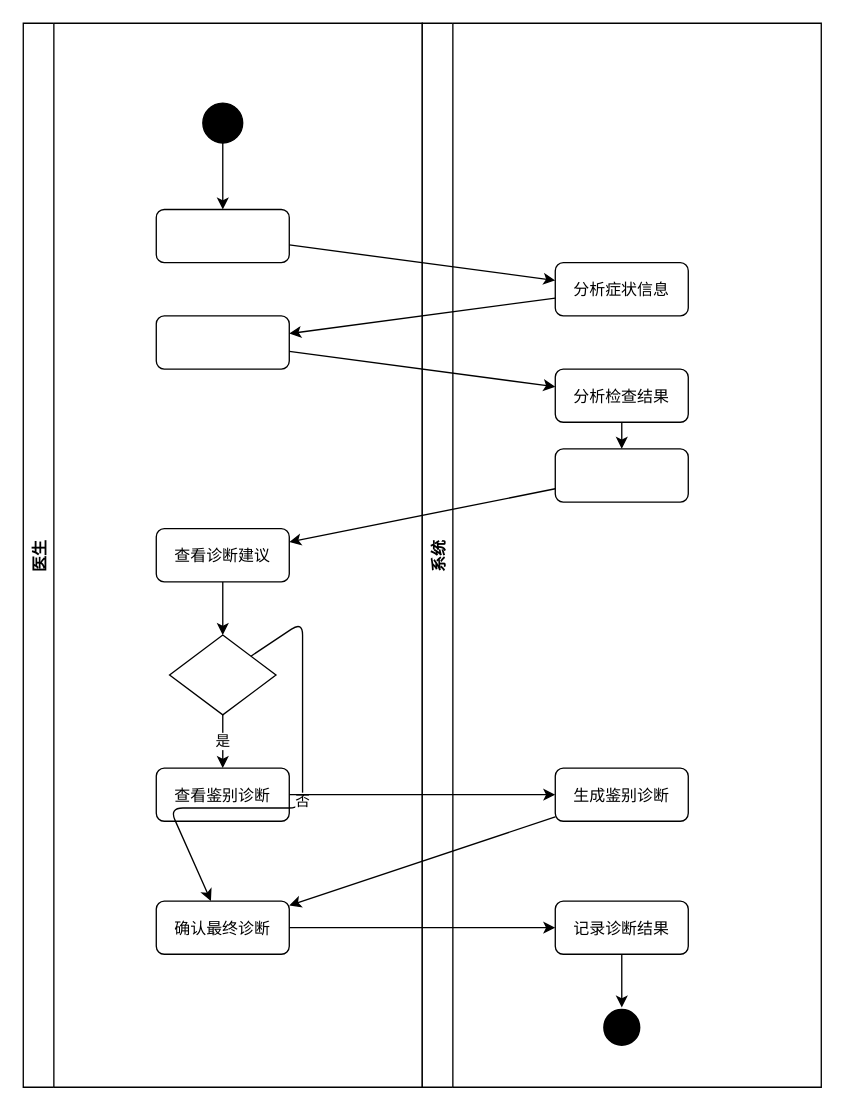
Some shapes in this 845 by 1111 pixel diagram are drawn without their labels. Each missing label, with the centre of its shape:
录入患者症状: the point at 222,235
录入检查结果: the point at 222,342
是否需要 鉴别诊断: the point at 222,674
生成诊断建议: the point at 621,475
